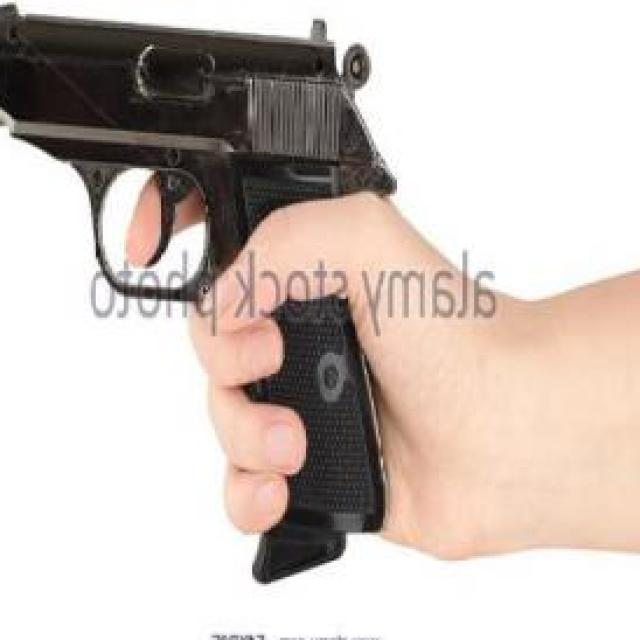pistol: (0, 5, 402, 568)
